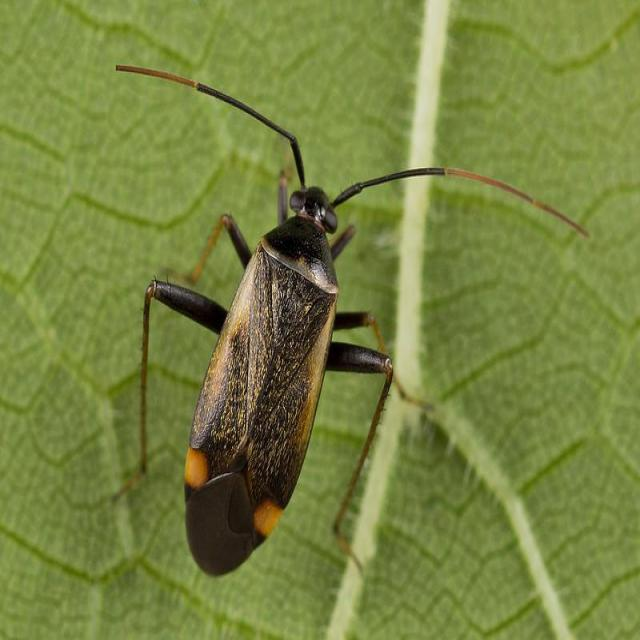Miridae-Adult-: (92, 39, 474, 581)
